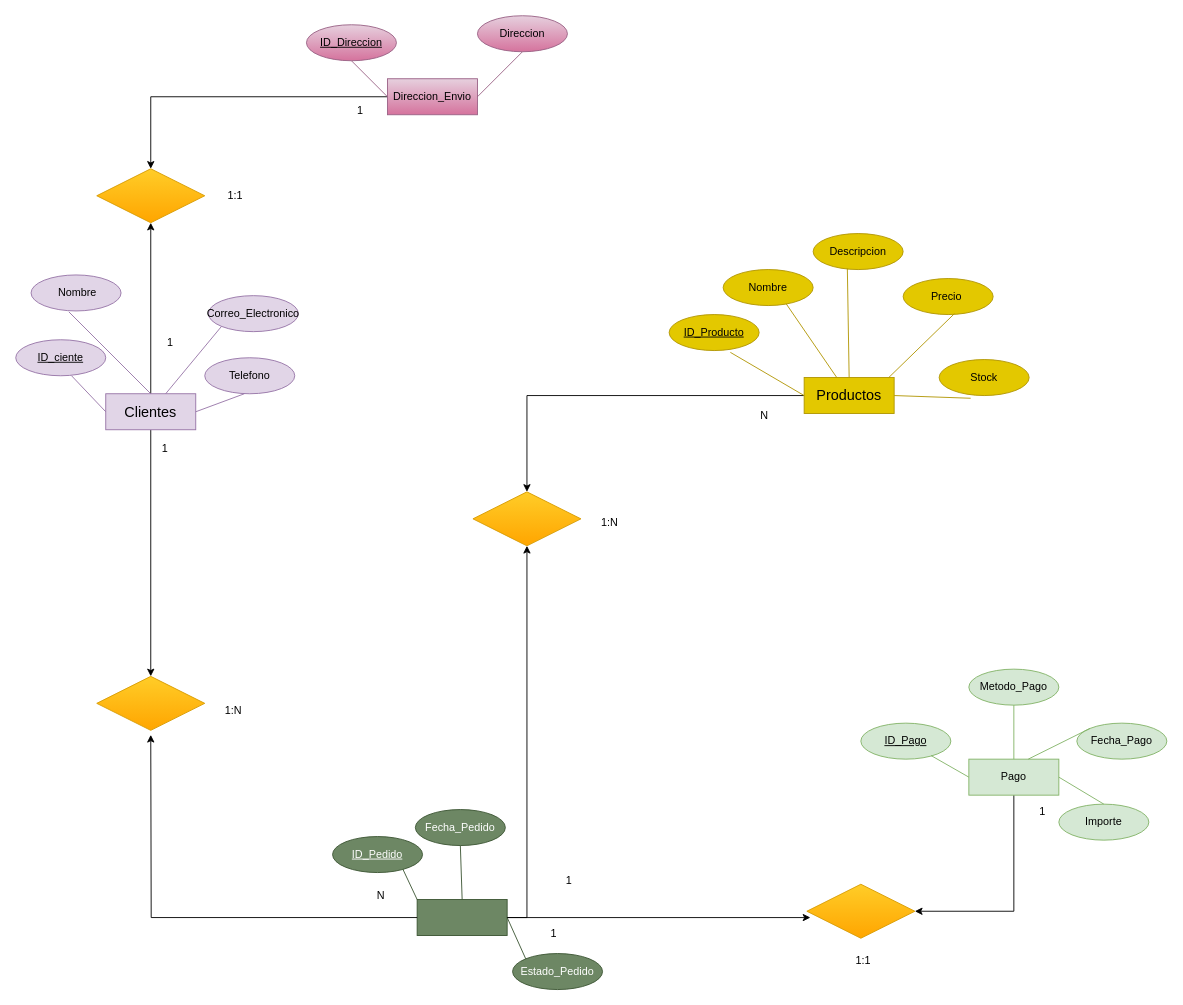
Image size: 1183x1005. Some labels were removed from this diagram. The shapes that lost their labels are listed below. From the top down, each one's centre as x and y in pixels, then its label:
At (x=150, y=195): "pertenece".
At (x=526, y=518): "contiene".
At (x=150, y=702): "realiza".
At (x=461, y=917): "Pedido".
At (x=860, y=910): "puede tener".
